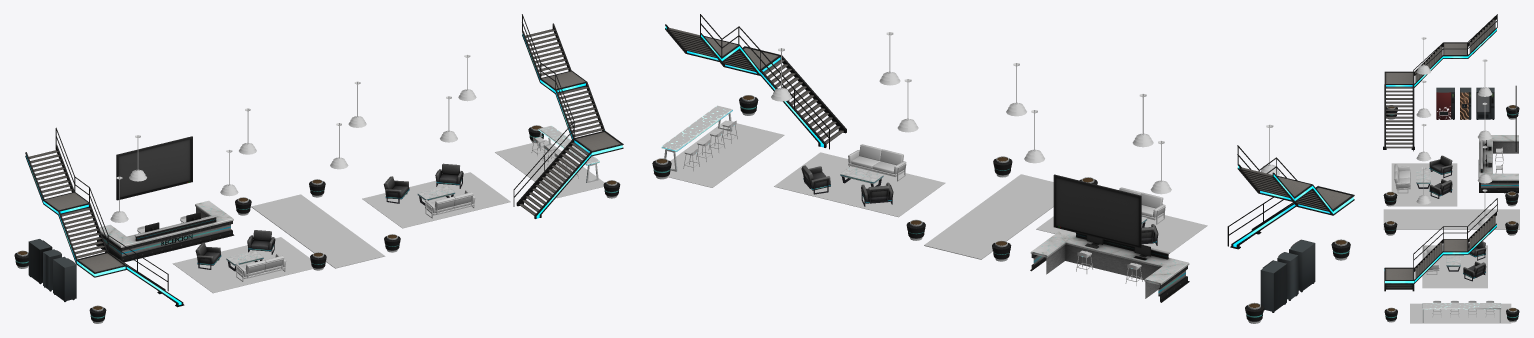
File: Bodega_Lobby.fbx
3 renders of one model, left to right at view 1: azimuth 30°, elevation 25°; view 2: azimuth 150°, elevation 25°; view 3: azimuth 270°, elevation 25°, orthographic. The views are drawn at different scales.
Visible parts, largest first — view 1: Stairs02, Stairs01, Carpet02, Reception_Desk, Tv, Carpet01, Carpet, Carpet03, Lamps, Soda_Machine, Large_Couch01, Large_Couch (+7 smaller); view 2: Carpet02, Stairs02, Reception_Desk, Tv, Carpet01, Carpet03, Stairs01, Lamps, Carpet, Large_Couch, Vendig_Machine, AmericanBar (+7 smaller); view 3: Stairs01, Carpet02, Stairs02, Carpet, Reception_Desk, Carpet01, Carpet03, Lamps, Soda_Machine, AmericanBar, Vendig_Machine, Large_Couch01 (+18 smaller).
Part boxes in pixels (x1=…): Stairs02: x1=513, y1=14, x2=623, y2=218; Stairs01: x1=25, y1=127, x2=184, y2=307; Carpet02: x1=251, y1=194, x2=385, y2=268; Reception_Desk: x1=96, y1=200, x2=234, y2=262; Tv: x1=116, y1=136, x2=192, y2=200; Carpet01: x1=362, y1=172, x2=510, y2=228; Carpet: x1=172, y1=237, x2=313, y2=293; Carpet03: x1=495, y1=139, x2=604, y2=198; Lamps: x1=110, y1=54, x2=476, y2=222; Soda_Machine: x1=53, y1=256, x2=76, y2=301; Large_Couch01: x1=235, y1=253, x2=286, y2=281; Large_Couch: x1=425, y1=190, x2=475, y2=218; Carpet02: x1=924, y1=174, x2=1053, y2=259; Stairs02: x1=665, y1=14, x2=846, y2=149; Reception_Desk: x1=1030, y1=231, x2=1189, y2=302; Tv: x1=1053, y1=174, x2=1141, y2=248; Carpet01: x1=774, y1=152, x2=945, y2=217; Carpet03: x1=653, y1=120, x2=784, y2=187; Stairs01: x1=1227, y1=145, x2=1354, y2=249; Lamps: x1=771, y1=32, x2=1280, y2=194; Carpet: x1=1036, y1=215, x2=1207, y2=253; Large_Couch: x1=848, y1=144, x2=906, y2=181; Vendig_Machine: x1=1260, y1=260, x2=1286, y2=312; AmericanBar: x1=661, y1=105, x2=732, y2=171; Stairs01: x1=1383, y1=14, x2=1497, y2=151; Carpet02: x1=1383, y1=209, x2=1519, y2=229; Stairs02: x1=1384, y1=198, x2=1497, y2=291; Carpet: x1=1391, y1=163, x2=1457, y2=206; Reception_Desk: x1=1478, y1=135, x2=1518, y2=193; Carpet01: x1=1422, y1=245, x2=1487, y2=288; Carpet03: x1=1410, y1=303, x2=1511, y2=323; Lamps: x1=1416, y1=37, x2=1492, y2=225; Soda_Machine: x1=1436, y1=87, x2=1454, y2=119; AmericanBar: x1=1422, y1=303, x2=1501, y2=322; Vendig_Machine: x1=1476, y1=87, x2=1494, y2=119; Large_Couch01: x1=1394, y1=164, x2=1410, y2=193.
Bounding box in the file's own units: 3320 × 840 × 917.
